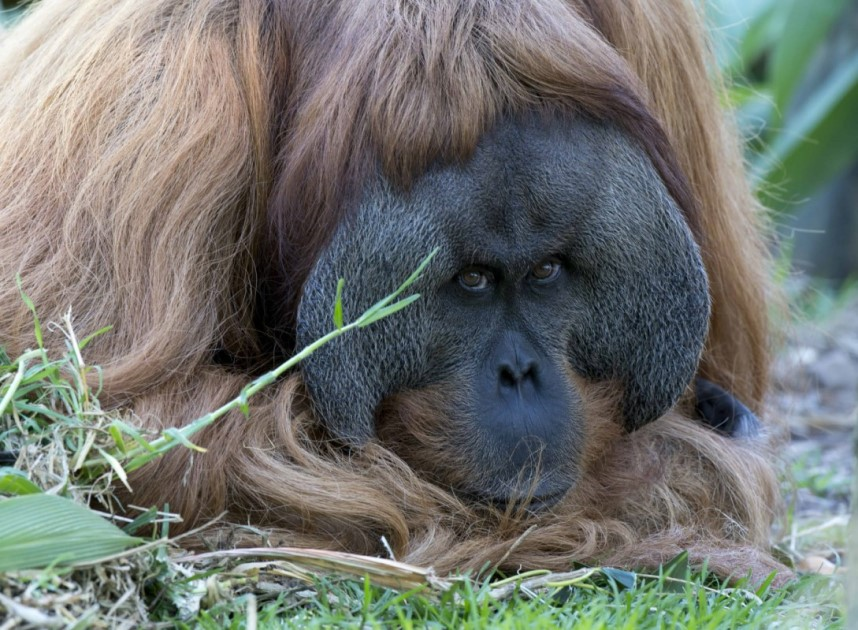Orangutan: (59, 17, 745, 537)
